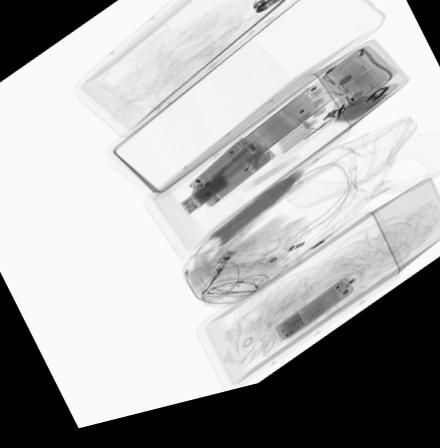Powerbank: (178, 182, 232, 226)
